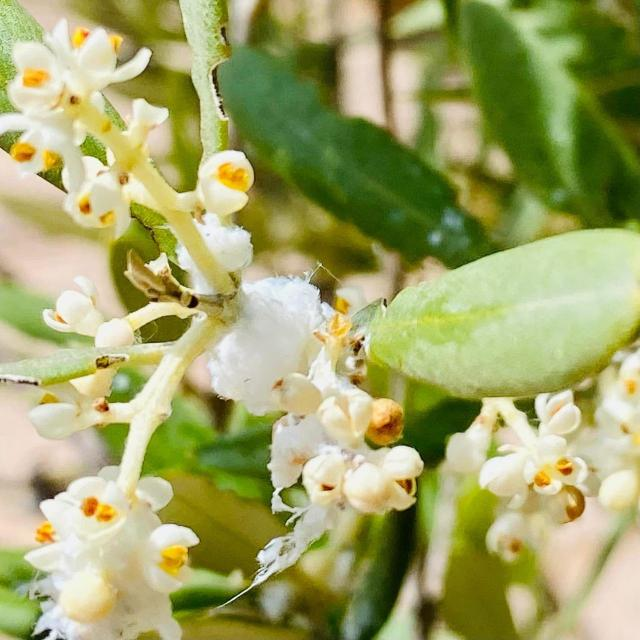Psyllid: (214, 394, 423, 610), (176, 214, 332, 416), (24, 466, 200, 640)
